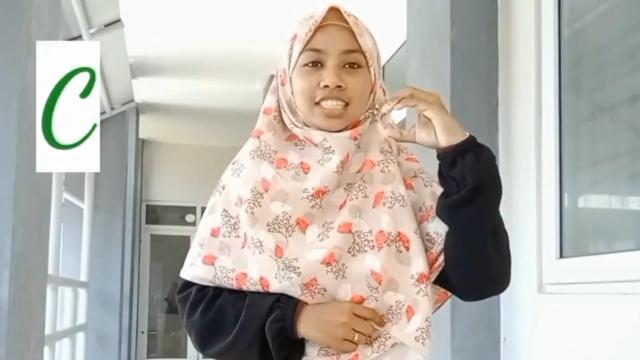C: (378, 86, 464, 148)
